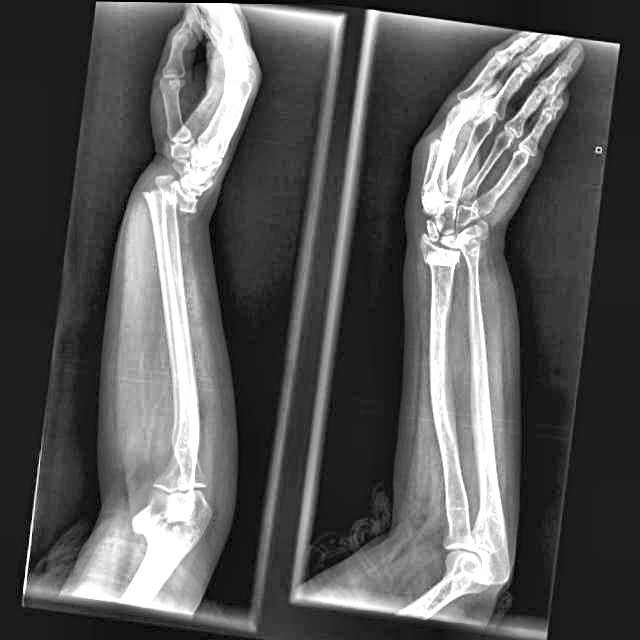Transverse: (126, 154, 222, 231)
